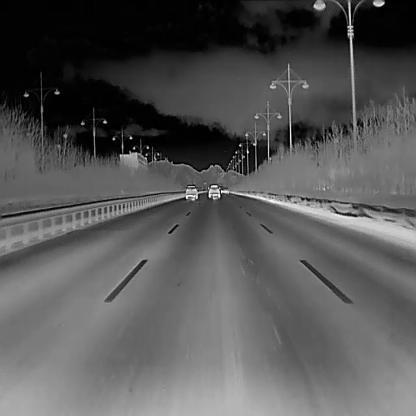car: (207, 182, 220, 198), (185, 183, 197, 198)
